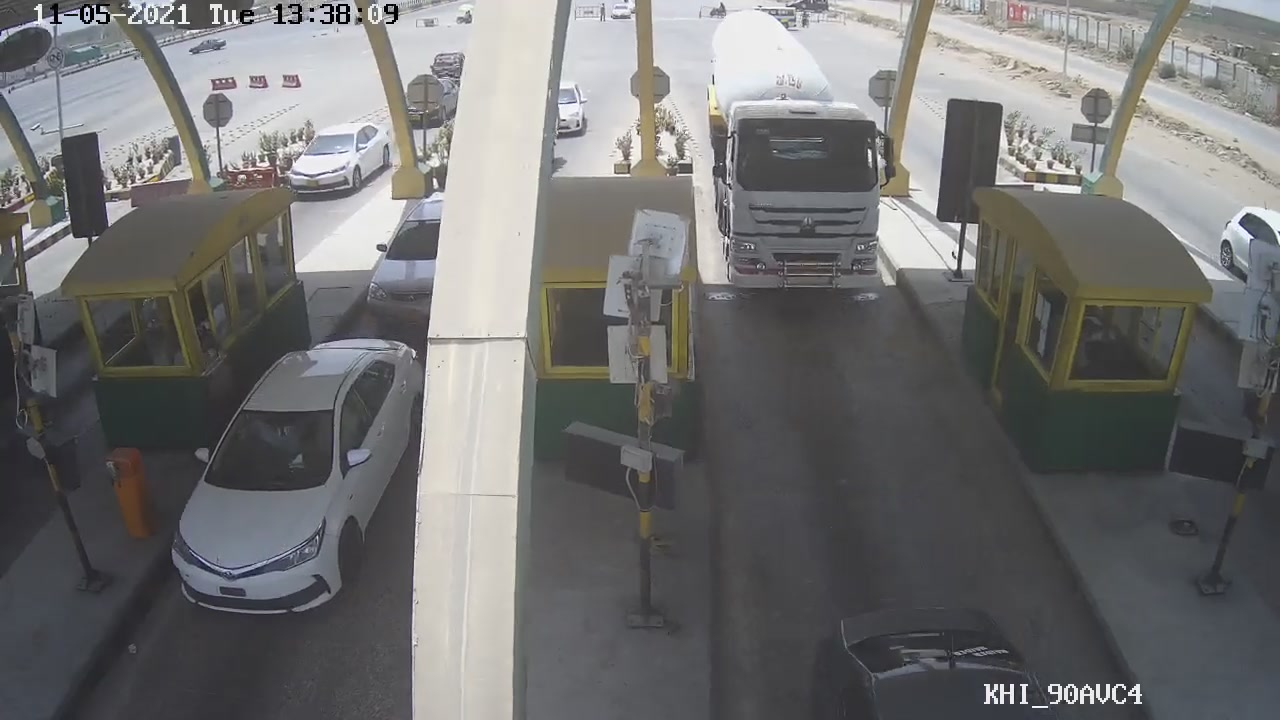F6: (707, 18, 904, 299)
